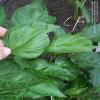Bell_pepper leaf spot: (27, 29, 77, 74), (44, 1, 72, 41), (79, 18, 99, 54), (81, 39, 100, 75), (73, 45, 95, 66)
